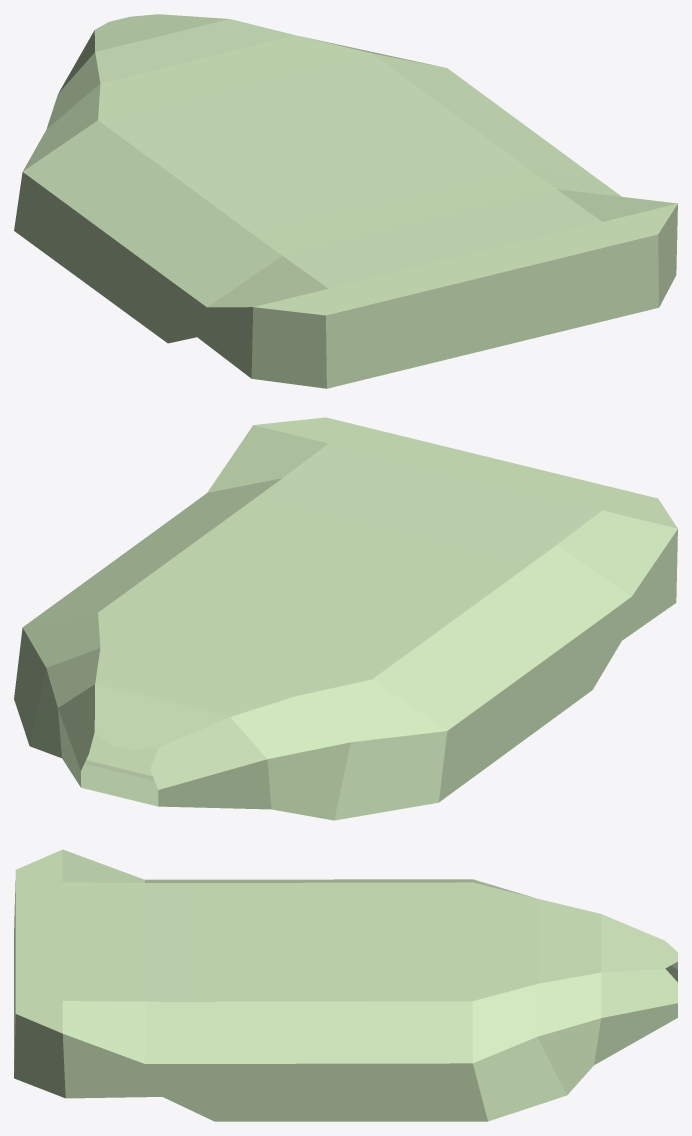
File: tank_head.fbx
The picture shows the model from 3 angles, top to bottom: view 1: azimuth 30°, elevation 25°; view 2: azimuth 150°, elevation 25°; view 3: azimuth 270°, elevation 25°; orthographic projection. The views are drawn at different scales.
Visible parts, largest first — view 1: Tank.001; view 2: Tank.001; view 3: Tank.001.
Boxes of the visible parts, box(x1,y1,x2,y2) form: Tank.001: box(14, 14, 677, 388); Tank.001: box(14, 417, 677, 820); Tank.001: box(14, 849, 677, 1121).
Bounding box in the file's own units: 55.46 × 12.37 × 84.46.
